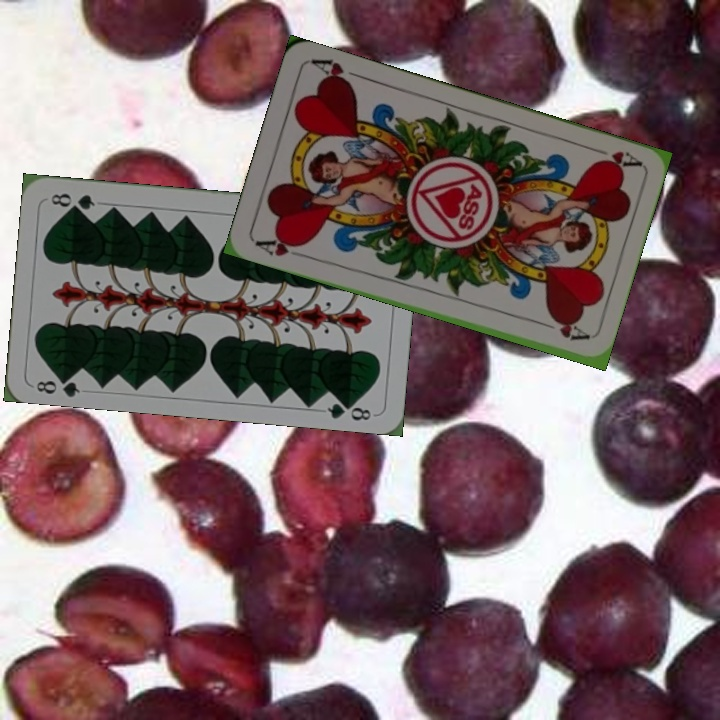G8: (32, 370, 83, 399)
HA: (584, 145, 643, 173), (251, 232, 310, 259)
